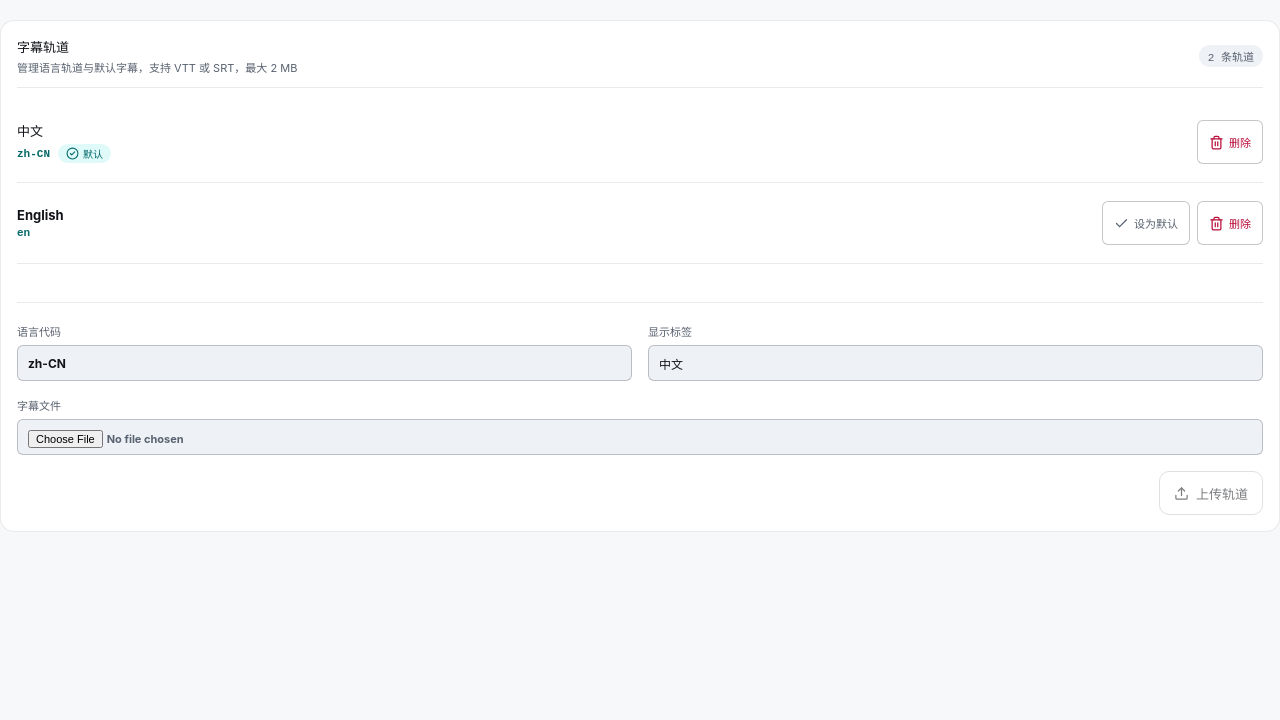
Test: SubtitleManager › delete retains confirmation and returns the server track list
Click the button "删除" in the row of "zh-CN".
click(1230, 142)  # box [1197,120,1263,164]
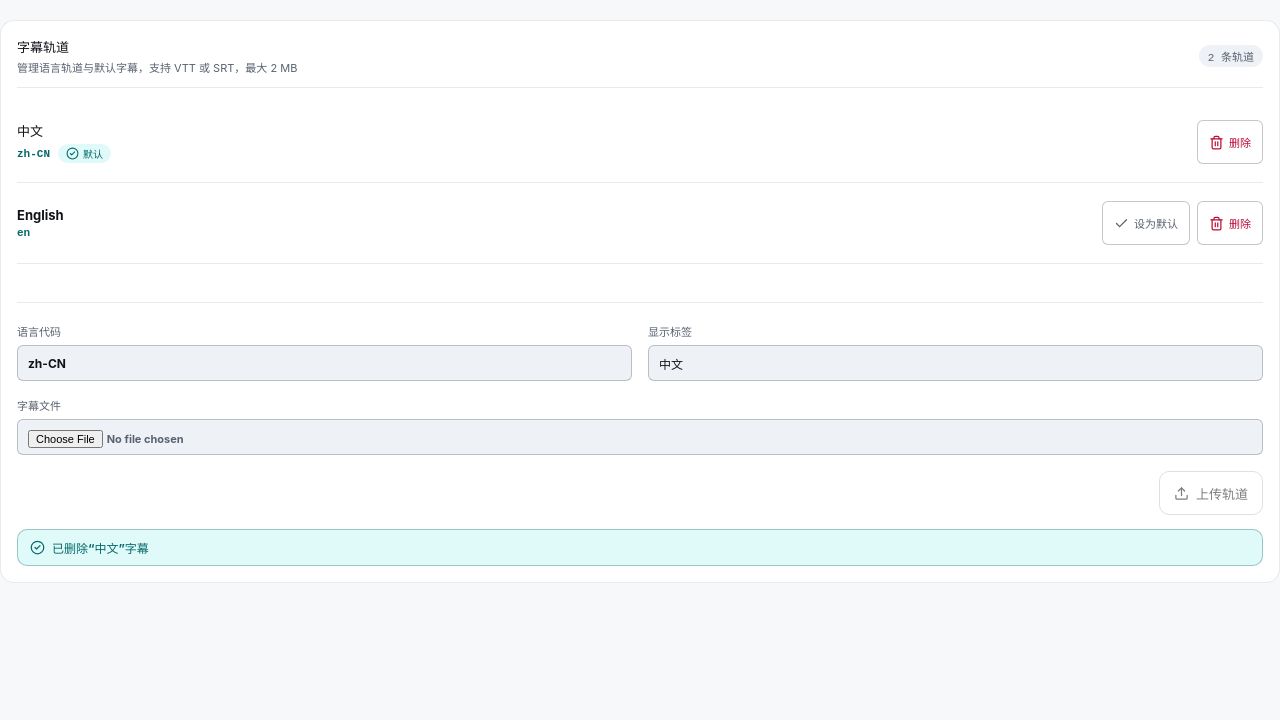
Result: the message "已删除“中文”字幕" is shown at [17,529,1263,566]
